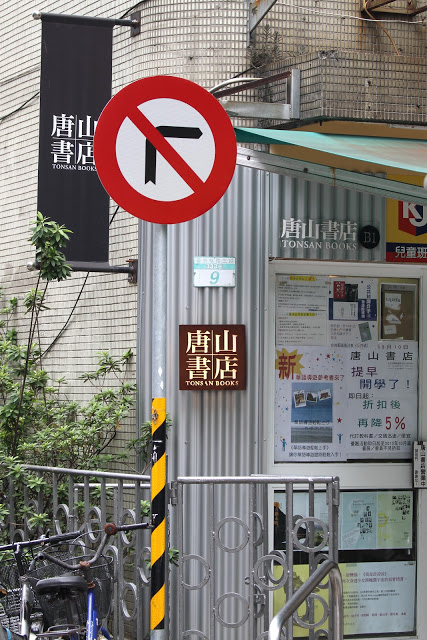No_right_turn: (91, 75, 236, 224)
